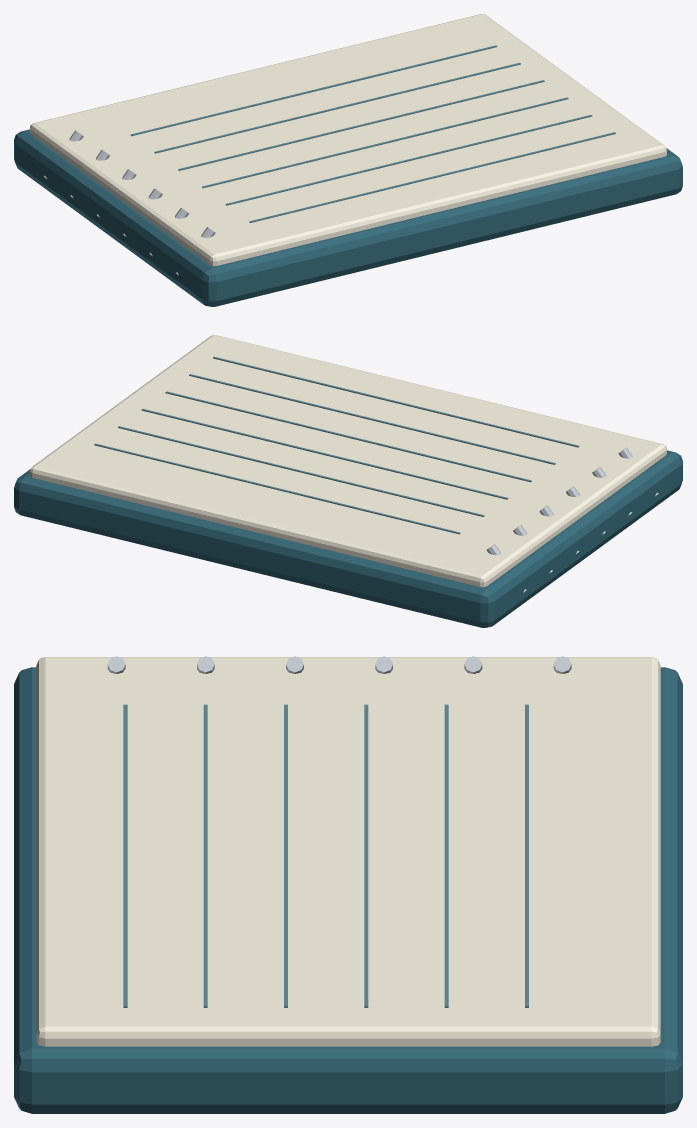
The model's file is notebook.glb.
3 views of the same model, one above another, from view 1: azimuth 30°, elevation 25°; view 2: azimuth 150°, elevation 25°; view 3: azimuth 270°, elevation 25° (orthographic). The views are drawn at different scales.
Parts seen in each view (by area): view 1: Prop_notebook; view 2: Prop_notebook; view 3: Prop_notebook.
Boxes of the visible parts, box(x1,y1,x2,y2) form: Prop_notebook: box(14, 14, 682, 306); Prop_notebook: box(14, 335, 682, 627); Prop_notebook: box(14, 656, 682, 1113).
Size of the model in its own units: 0.1053 by 0.0117 by 0.075.
